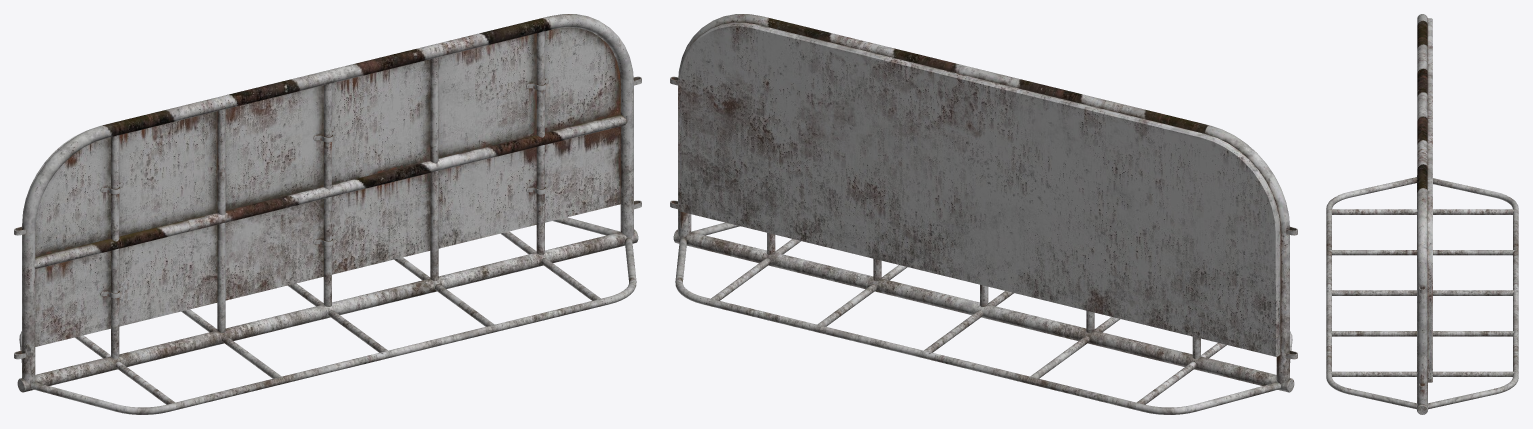
The model's file is SM_Barrier.glb.
The picture shows the model from 3 angles, left to right: view 1: azimuth 30°, elevation 25°; view 2: azimuth 150°, elevation 25°; view 3: azimuth 270°, elevation 25°; orthographic projection. The views are drawn at different scales.
Parts seen in each view (by area): view 1: SM_Barrier; view 2: SM_Barrier; view 3: SM_Barrier.
Part boxes in pixels (box(x1,y1,x2,y2)): SM_Barrier: box(14, 14, 641, 414); SM_Barrier: box(670, 14, 1297, 414); SM_Barrier: box(1326, 14, 1518, 414).
Size of the model in its own units: 2.65 by 0.9942 by 0.9022.
Materials: 1 (1 with a texture image).
